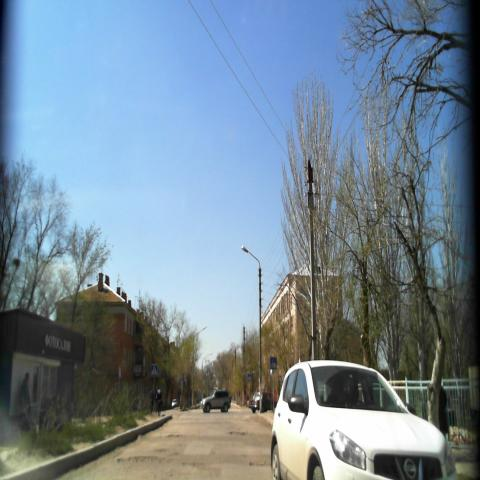5_19_1: (266, 356, 276, 372), (150, 360, 160, 375)
